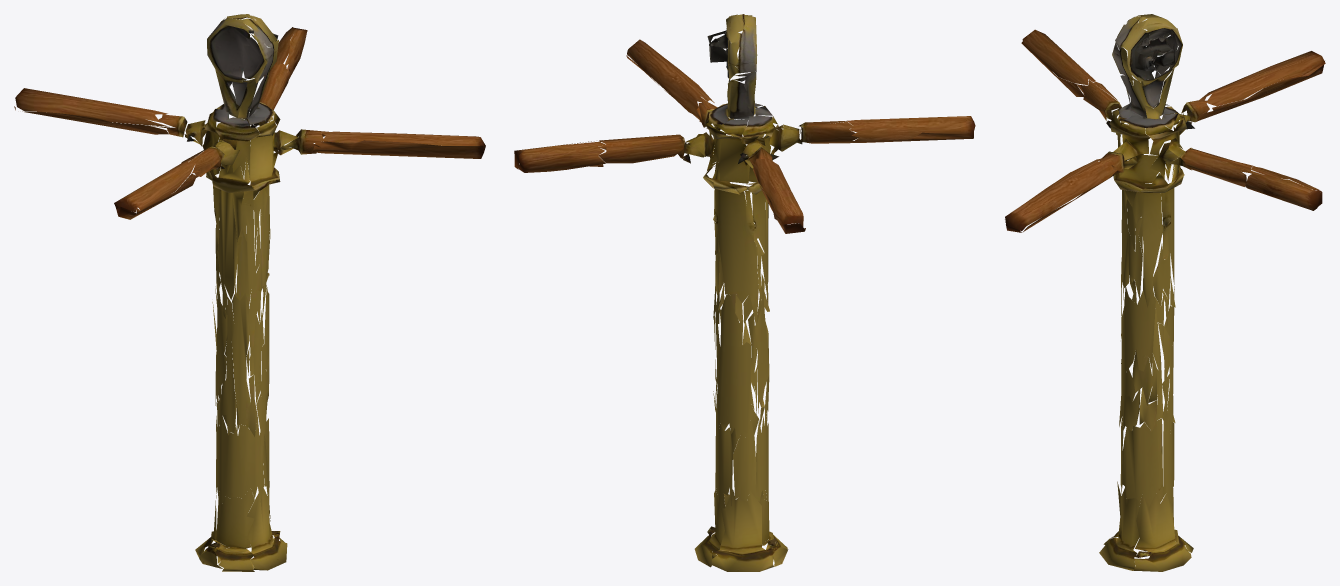
File: penn_turnstile.glb
3 views of the same model, side by side, from view 1: azimuth 30°, elevation 25°; view 2: azimuth 150°, elevation 25°; view 3: azimuth 270°, elevation 25° (orthographic).
Parts seen in each view (by area): view 1: tripo_node_e36b7950-eebc-46e4-a51a-1e8ce741dae1; view 2: tripo_node_e36b7950-eebc-46e4-a51a-1e8ce741dae1; view 3: tripo_node_e36b7950-eebc-46e4-a51a-1e8ce741dae1.
Part boxes in pixels (bbox=[...]): tripo_node_e36b7950-eebc-46e4-a51a-1e8ce741dae1: bbox=[14, 14, 485, 571]; tripo_node_e36b7950-eebc-46e4-a51a-1e8ce741dae1: bbox=[514, 14, 975, 571]; tripo_node_e36b7950-eebc-46e4-a51a-1e8ce741dae1: bbox=[1005, 14, 1325, 571].
Bounding box in the file's own units: 0.6987 × 1 × 0.5421.
1 material, 1 textured.
